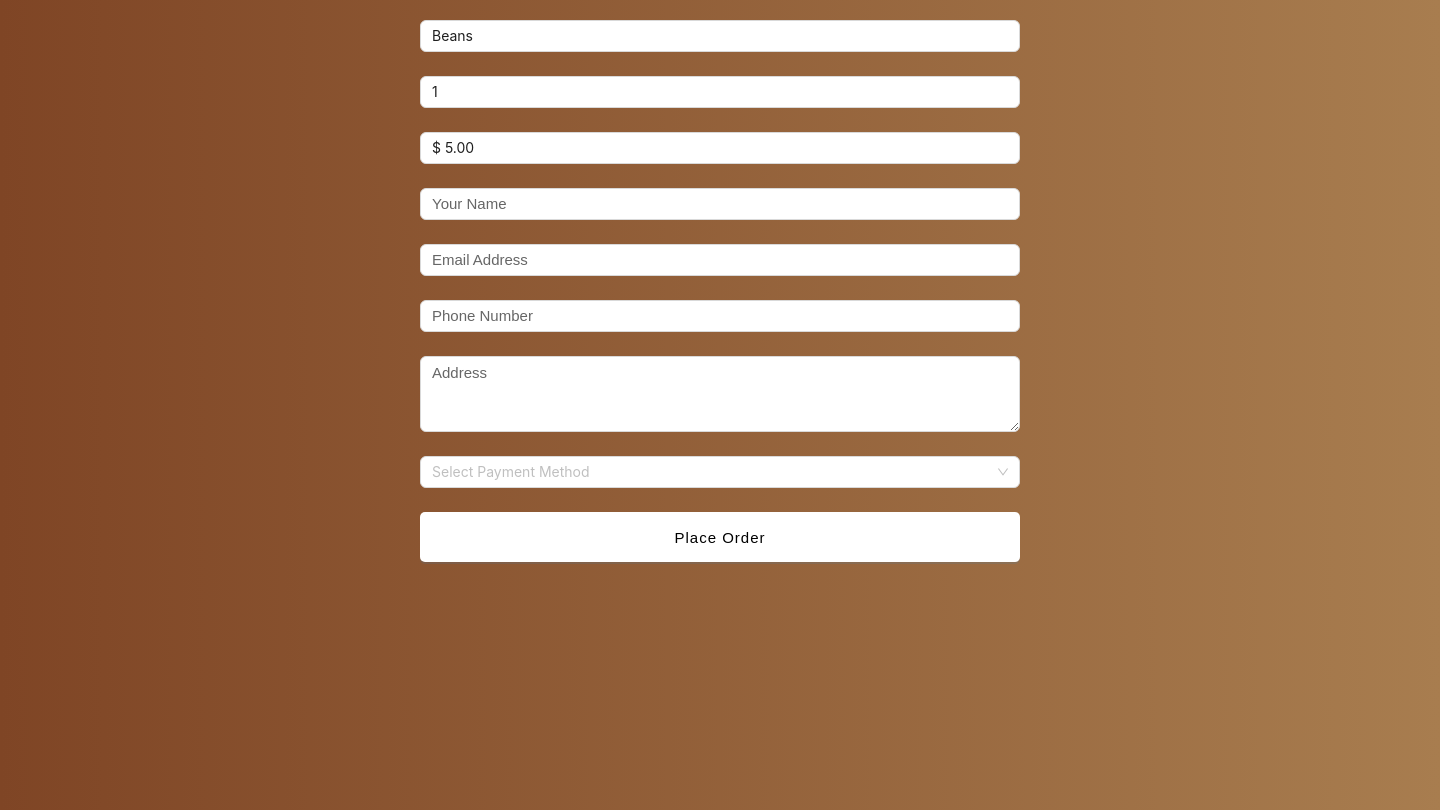
CheckoutForm › updates price when quantity changes
Step 1. Replace the text in the 2nd field with placeholder "Quantity" with "3" → (720, 92), box [420,76,1020,108]
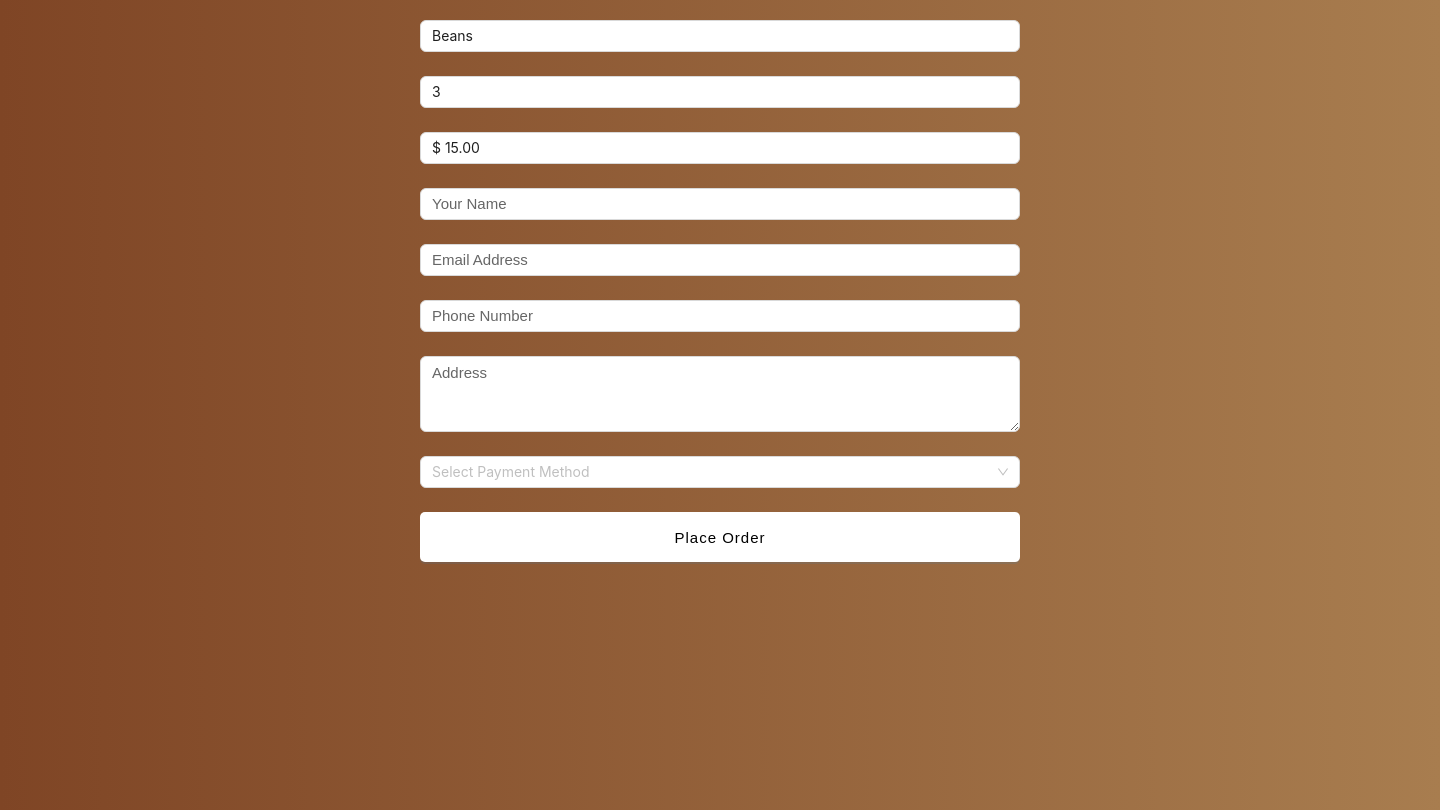
Now the 3rd field with placeholder "Price" holds "$ 15.00", box [420,132,1020,164]
